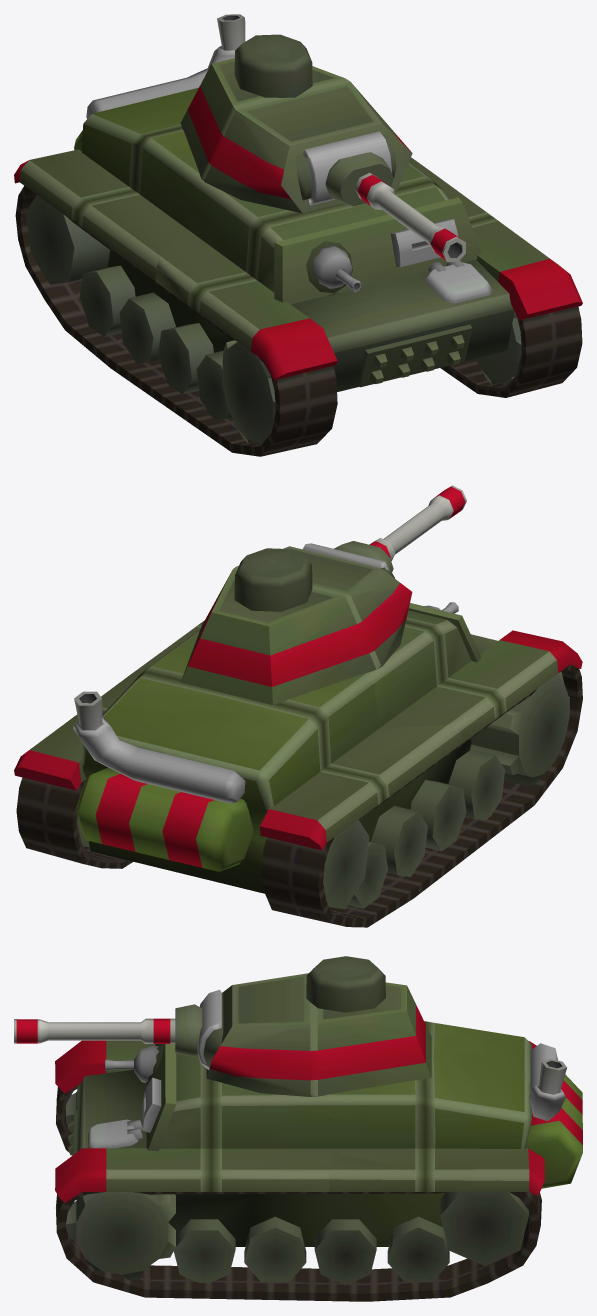
File: Tank_Enemy.fbx
3 renders of one model, top to bottom at view 1: azimuth 30°, elevation 25°; view 2: azimuth 150°, elevation 25°; view 3: azimuth 270°, elevation 25°, orthographic. The views are drawn at different scales.
Visible parts, largest first — view 1: Part1, Part2, HeadTankShape, RightFlippers, LeftFlippers, BarrelTank; view 2: Part2, Part1, HeadTankShape, Part3, RightFlippers, LeftFlippers, BarrelTank; view 3: Part1, Part3, HeadTankShape, LeftFlippers, Part2, BarrelTank, RightFlippers.
Part boxes in pixels (x1,y1,x2,y2): Part1: (155, 162, 582, 444); Part2: (14, 14, 245, 363); HeadTankShape: (180, 34, 412, 213); RightFlippers: (15, 186, 337, 456); LeftFlippers: (440, 306, 582, 397); BarrelTank: (355, 172, 465, 262); Part2: (73, 675, 462, 909); Part1: (132, 602, 582, 851); HeadTankShape: (180, 541, 412, 704); Part3: (14, 632, 253, 874); RightFlippers: (261, 664, 582, 927); LeftFlippers: (16, 777, 132, 868); BarrelTank: (369, 485, 466, 561); Part1: (55, 1040, 347, 1283); Part3: (314, 1056, 582, 1284); HeadTankShape: (175, 956, 431, 1096); LeftFlippers: (56, 1192, 541, 1301); Part2: (424, 1021, 567, 1121); BarrelTank: (14, 1018, 175, 1043); RightFlippers: (56, 1085, 78, 1152).
Bounding box in the file's own units: 2.89 × 2.62 × 5.06.
2 materials, 2 textured.
